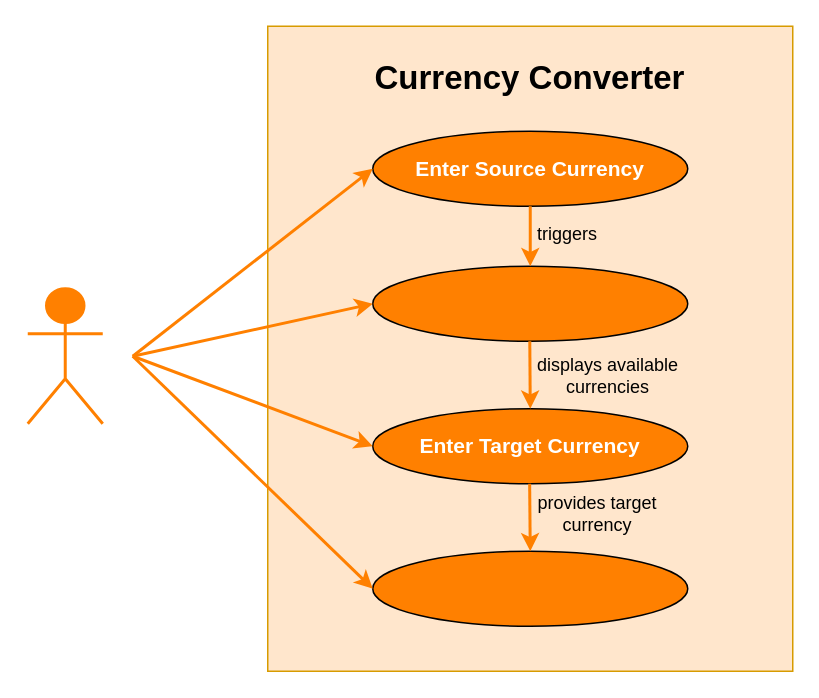
This 819x698 diagram has some shape labels left out. Each missing label, with the box of its shape:
Convert Currency: (371, 550, 688, 626)
Get Available Currencies: (371, 265, 688, 341)
